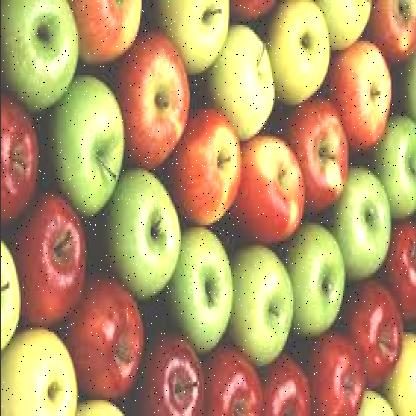apple: (120, 39, 198, 175), (208, 16, 276, 159), (113, 166, 188, 291), (64, 64, 128, 207), (331, 38, 395, 166), (280, 230, 348, 346), (175, 109, 239, 227), (226, 136, 298, 238), (26, 198, 86, 320), (289, 96, 349, 218), (77, 288, 145, 395), (8, 0, 78, 102), (9, 312, 77, 414), (233, 238, 292, 354), (171, 227, 225, 350), (270, 6, 334, 104), (334, 180, 390, 292), (2, 91, 46, 211), (350, 294, 402, 381), (150, 344, 206, 414), (314, 341, 367, 414)
